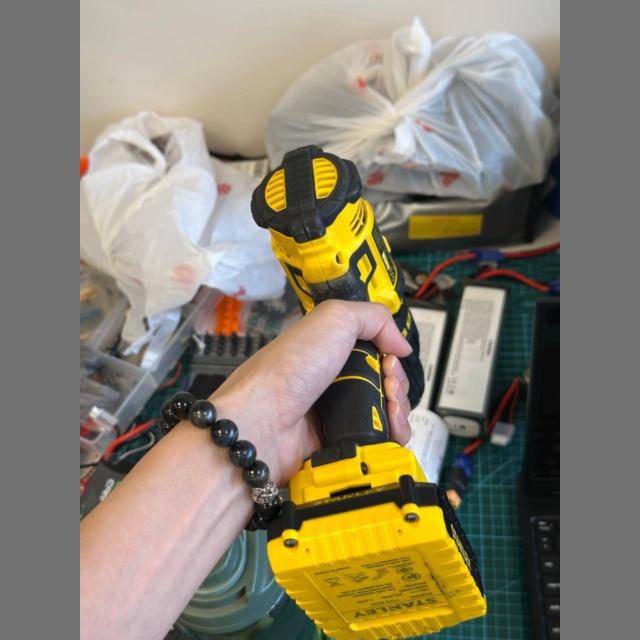drill: (251, 145, 486, 640)
